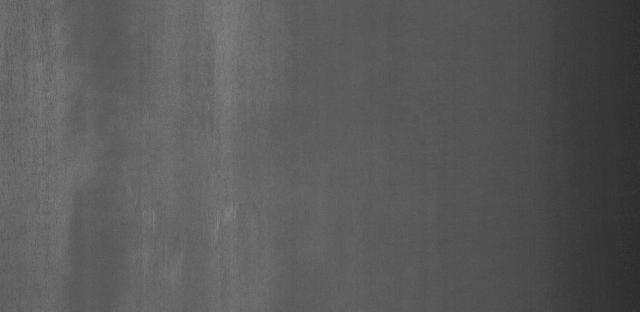silk_spot: (132, 194, 264, 289)
